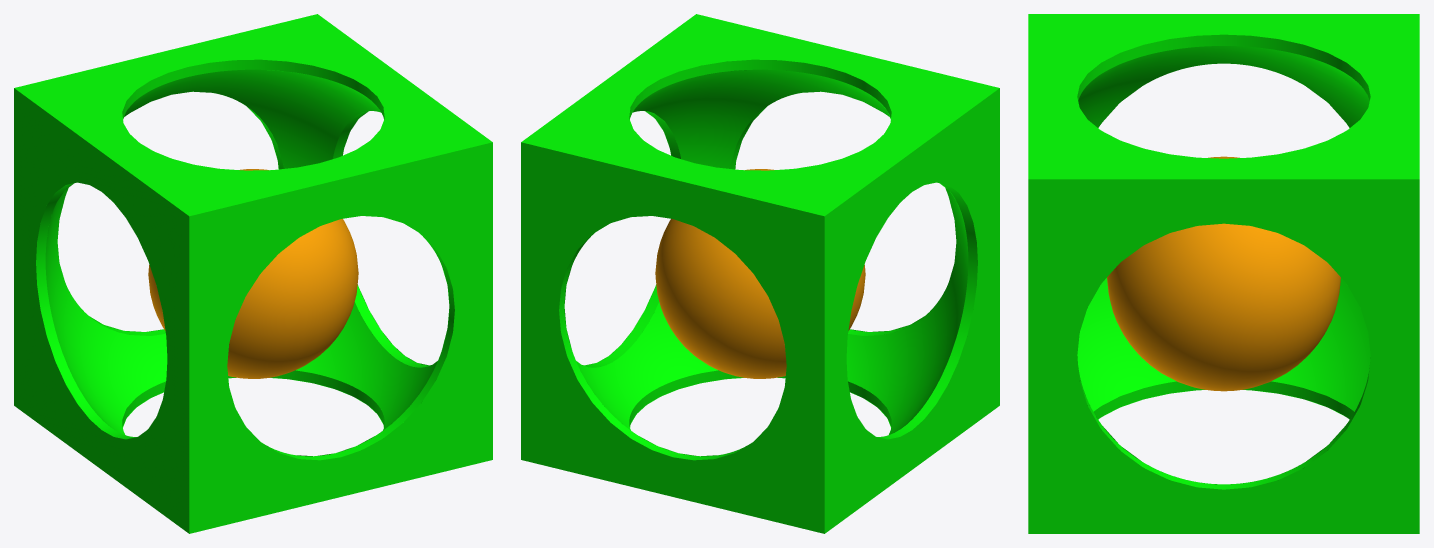
The model's file is lifangtiqiu.FBX.
The picture shows the model from 3 angles, left to right: view 1: azimuth 30°, elevation 25°; view 2: azimuth 150°, elevation 25°; view 3: azimuth 270°, elevation 25°; orthographic projection. The views are drawn at different scales.
Visible parts, largest first — view 1: TRM_SRF (×13); view 2: TRM_SRF (×13); view 3: TRM_SRF (×10).
Part boxes in pixels (x1,y1,x2,y2): TRM_SRF (×13): (14,14,492,533); TRM_SRF (×13): (521,14,999,533); TRM_SRF (×10): (1028,14,1419,533).
Size of the model in its own units: 39.37 by 39.37 by 39.37.
